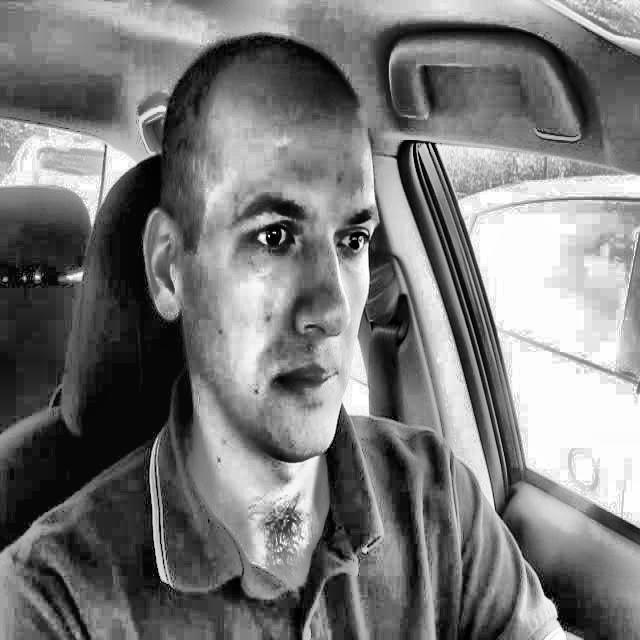closed_mouth: (256, 347, 352, 419)
open_eyes: (238, 215, 312, 268), (326, 218, 382, 267)
